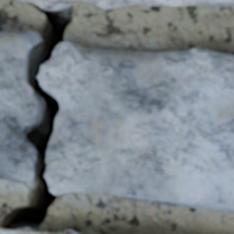brick: (21, 0, 233, 10), (0, 229, 78, 233), (80, 231, 97, 233)
broken_brick: (40, 41, 233, 213), (0, 30, 41, 183)
crack: (0, 2, 75, 231), (5, 31, 12, 34)
